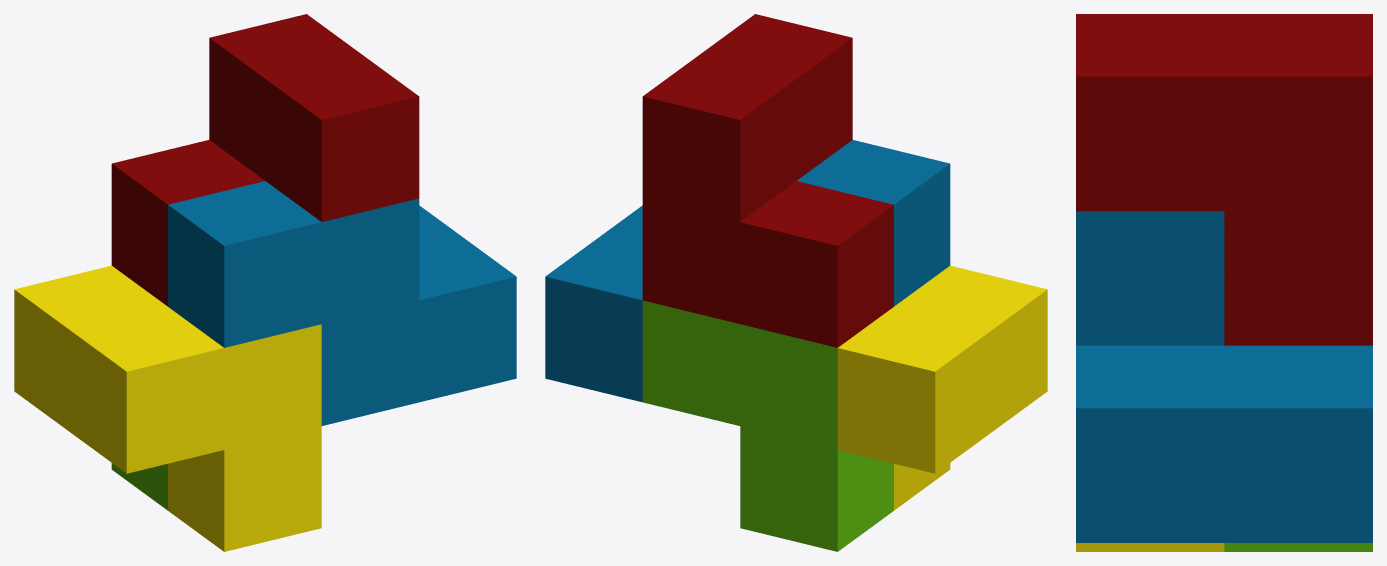
3 views of the same model, side by side, from view 1: azimuth 30°, elevation 25°; view 2: azimuth 150°, elevation 25°; view 3: azimuth 270°, elevation 25° (orthographic). The views are drawn at different scales.
Parts seen in each view (by area): view 1: mergedBlocks(Clone); view 2: mergedBlocks(Clone); view 3: mergedBlocks(Clone).
Part boxes in pixels (x1,y1,x2,y2): mergedBlocks(Clone): [14, 14, 516, 551]; mergedBlocks(Clone): [545, 14, 1047, 551]; mergedBlocks(Clone): [1076, 14, 1372, 551].
Size of the model in its own units: 4 by 4 by 2.
4 materials, 4 textured.
